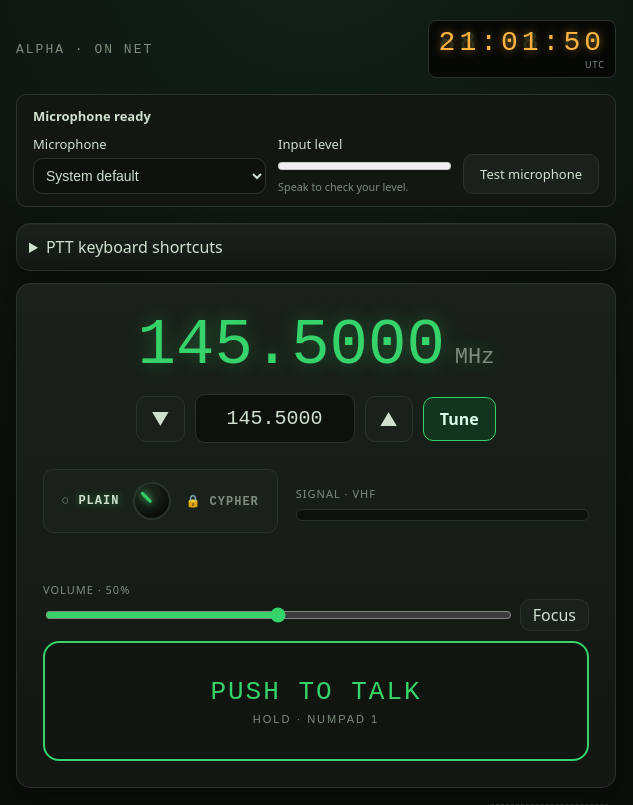
Radio › steps VHF/UHF by the 12.5 kHz channel spacing
Click the button named "Increase frequency on ALPHA". click: coordinates (389, 418)
box: [364,396,413,442]
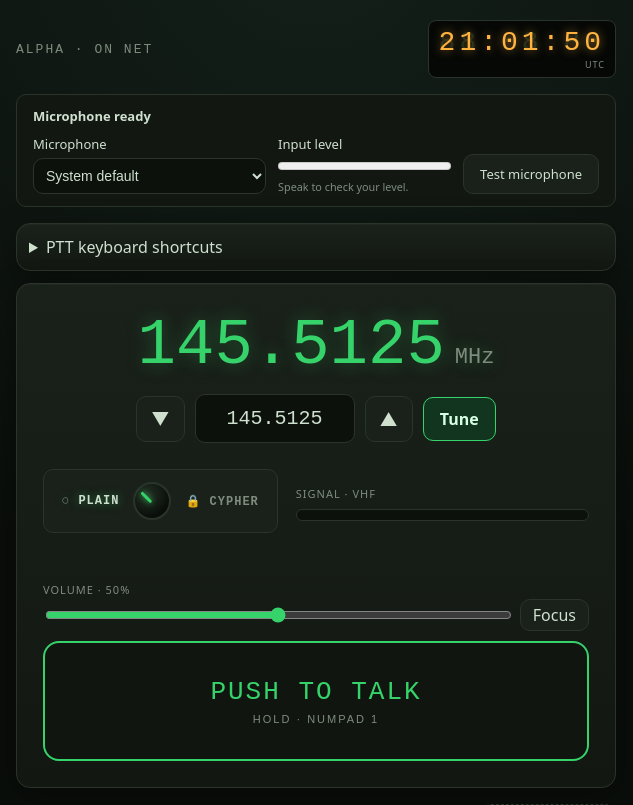
Expected: the text "145.5125" is shown, [138,310,445,382]
